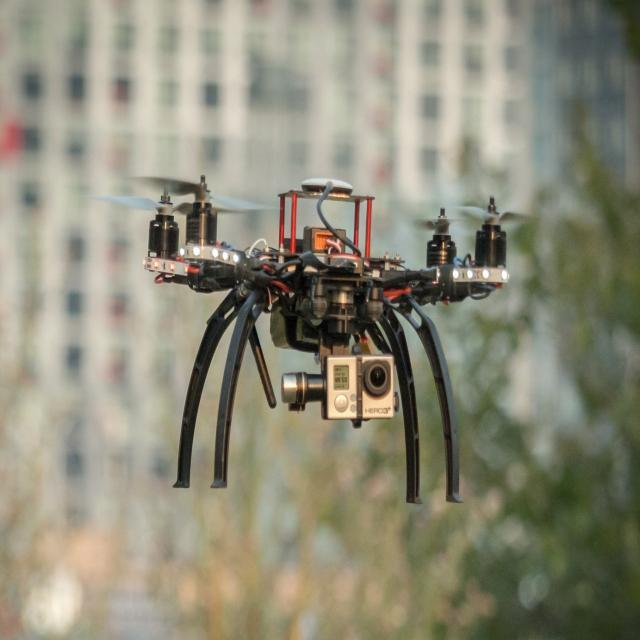drone: (98, 150, 542, 368)
